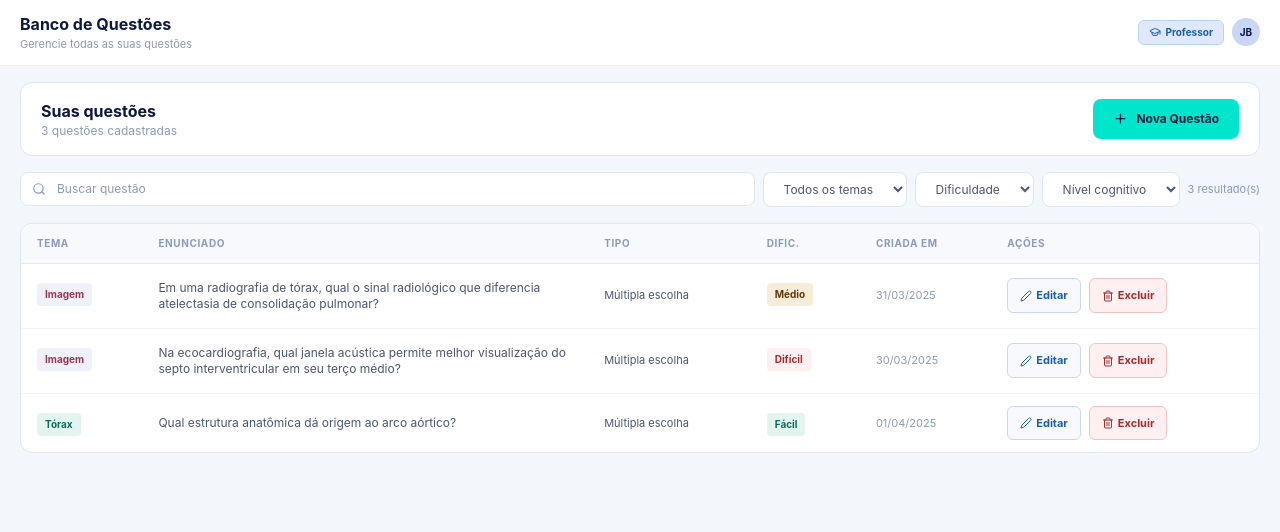
Scenario: QuestionsPage › mantém a busca focada e permite recuperar a lista após nenhum resultado
Type "termo-inexistente" into the field labelled "Buscar questão".
click(387, 189); type("termo-inexistente")  # box [20,172,755,206]
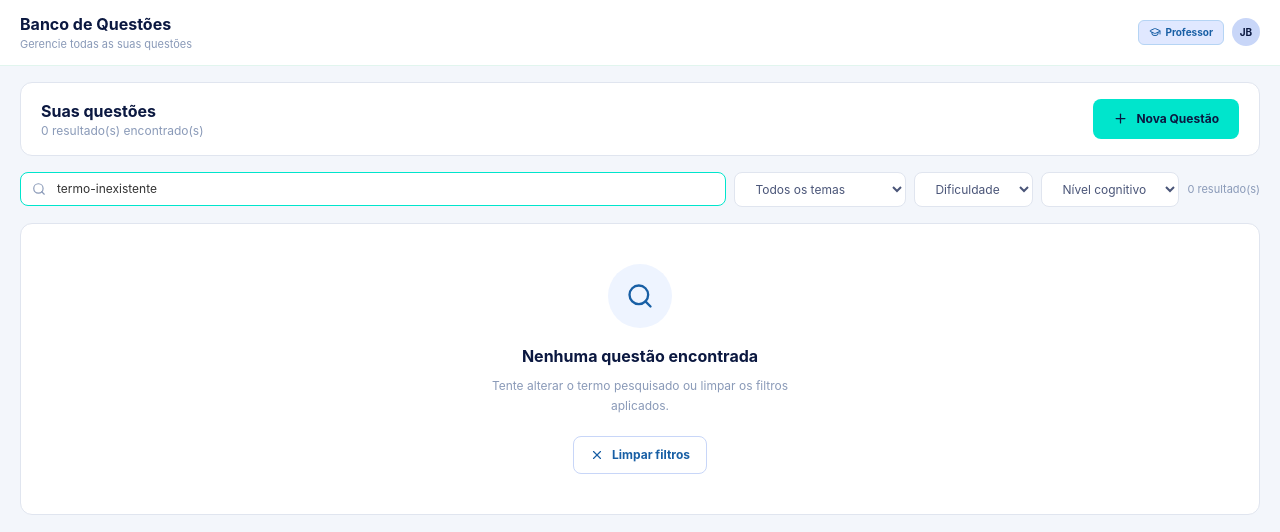
Now the heading "Nenhuma questão encontrada" is shown, box [522,344,758,368]
Clear the field named "Buscar questão" at (373, 189), box [20,172,726,206]
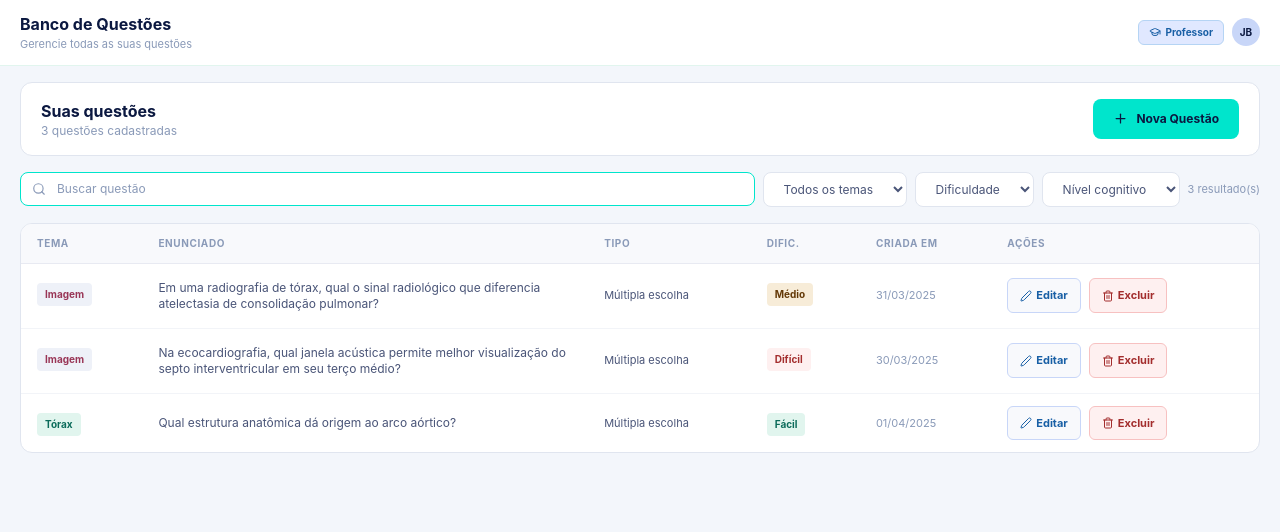
Now the text "atelectasia" is shown, box [158,280,540,310]
